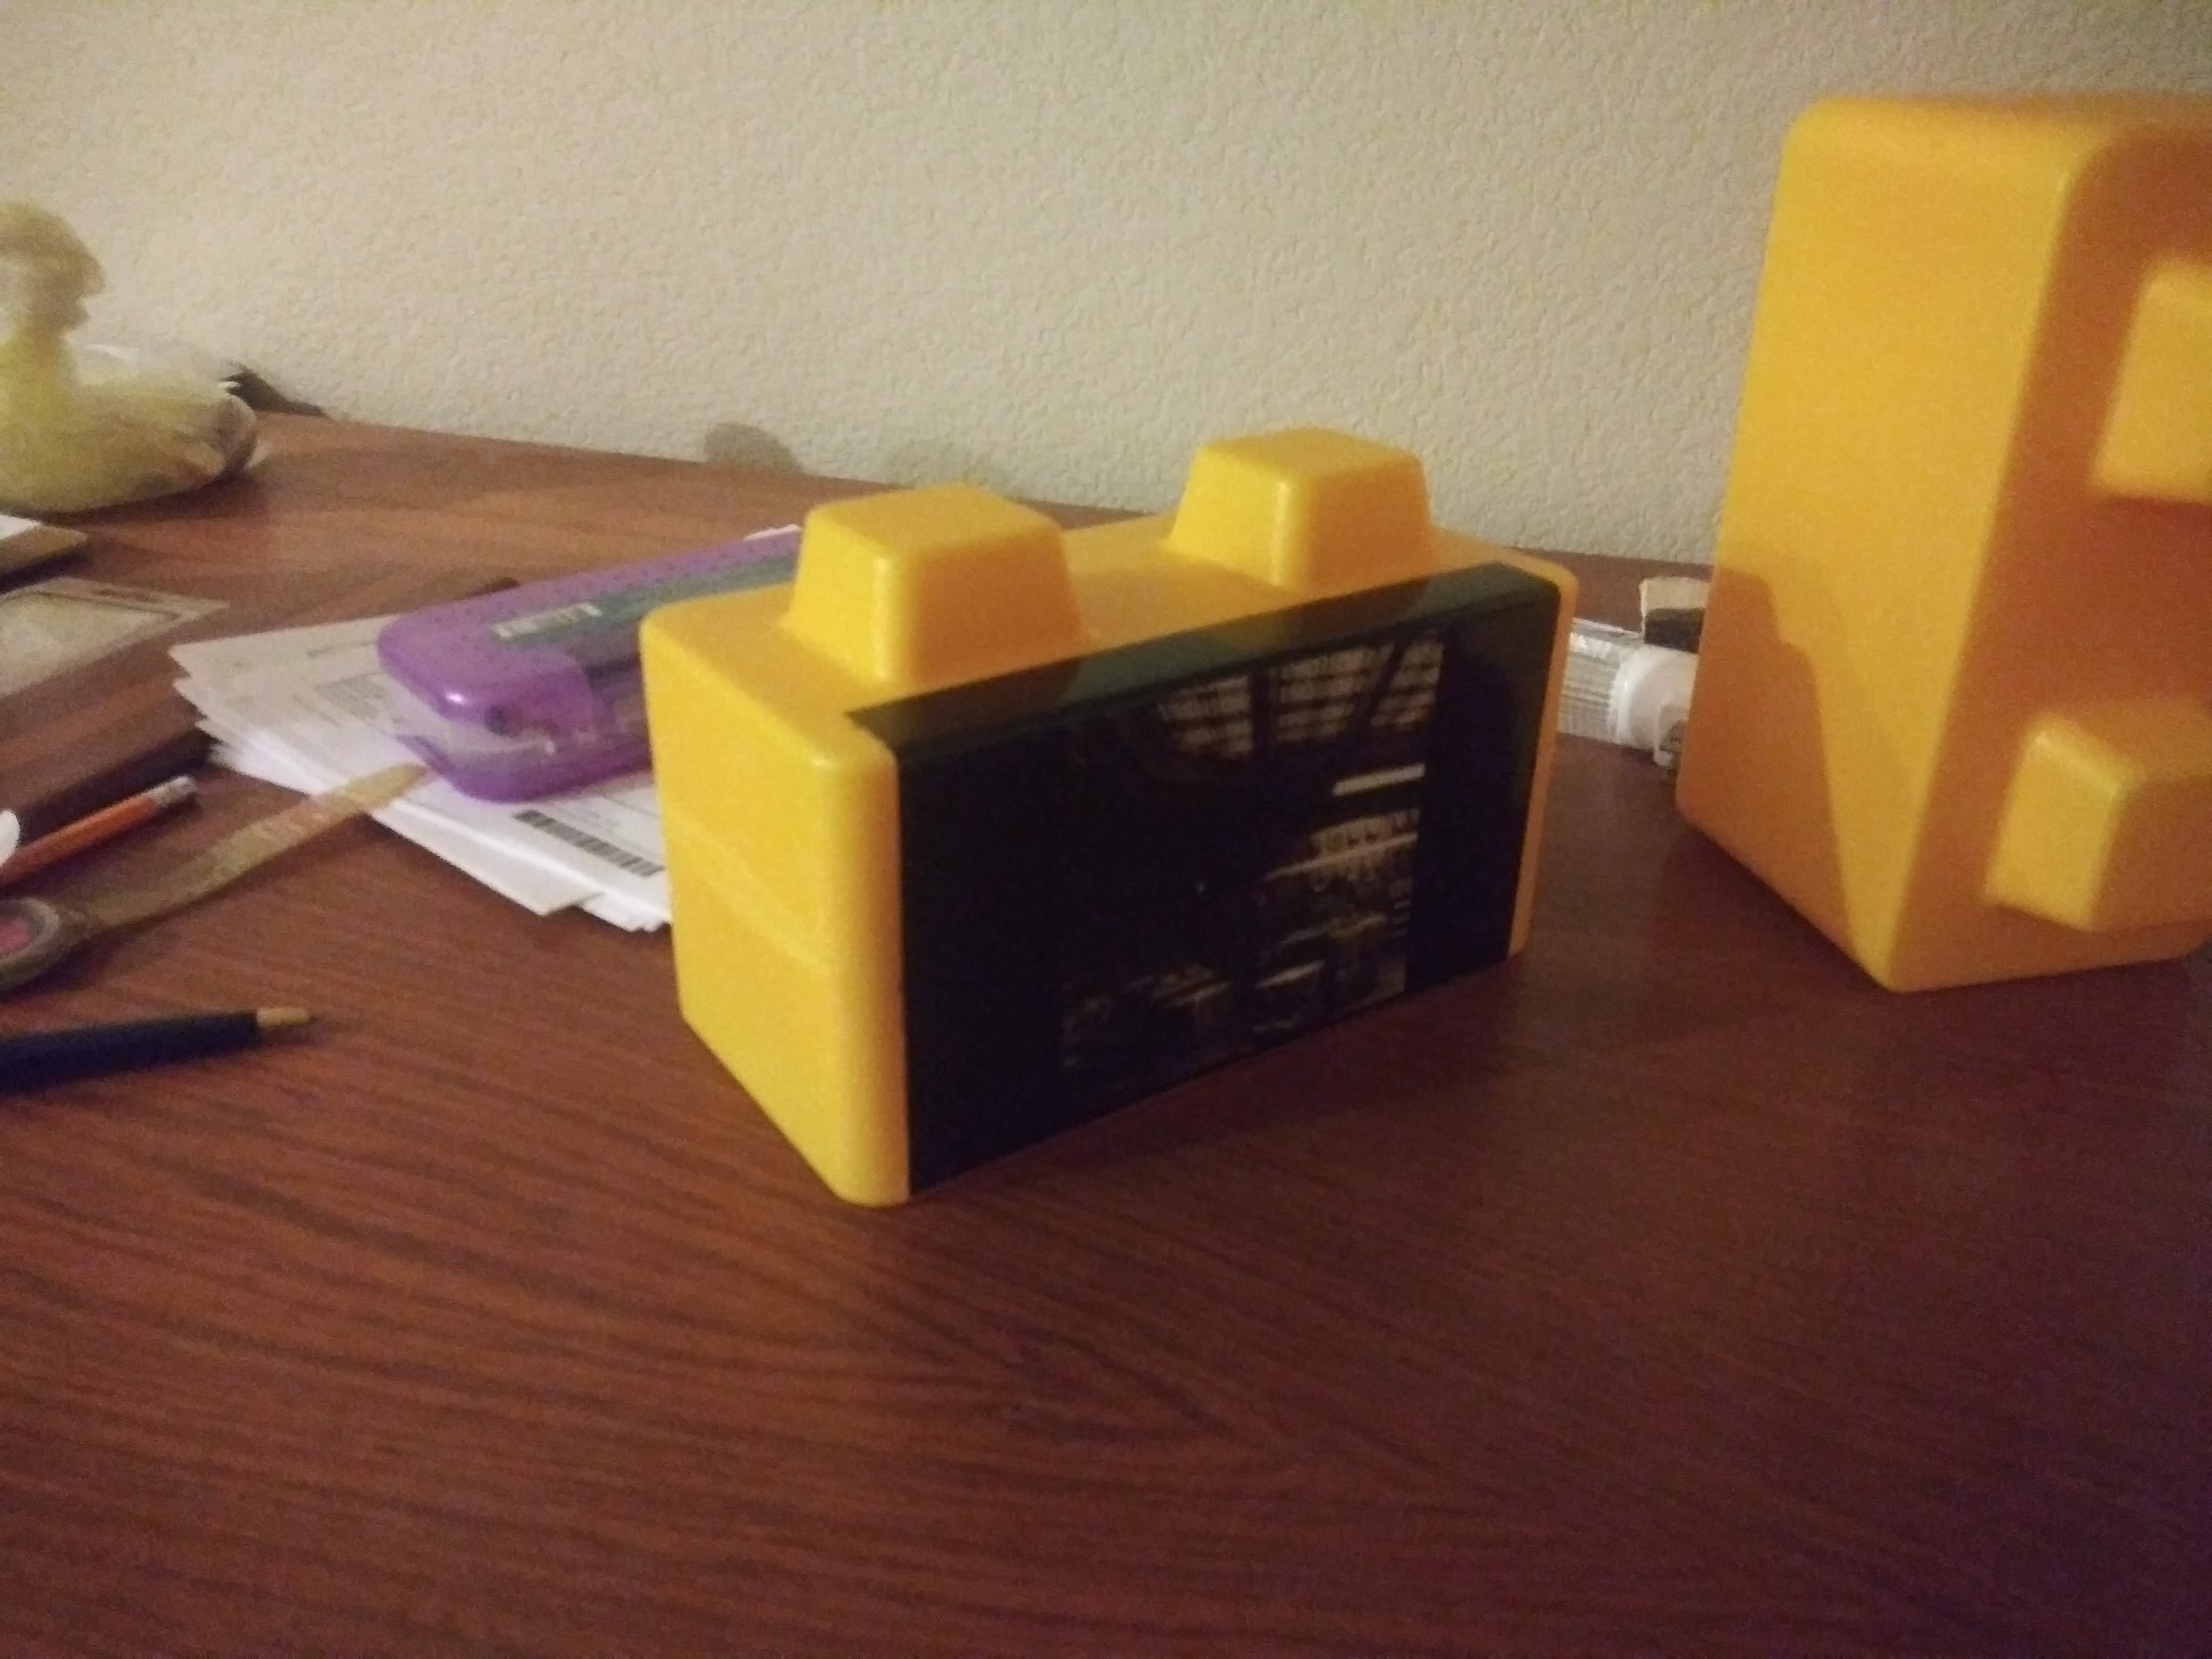skystone: (705, 573, 1552, 1049)
stone: (1723, 98, 2203, 950)
